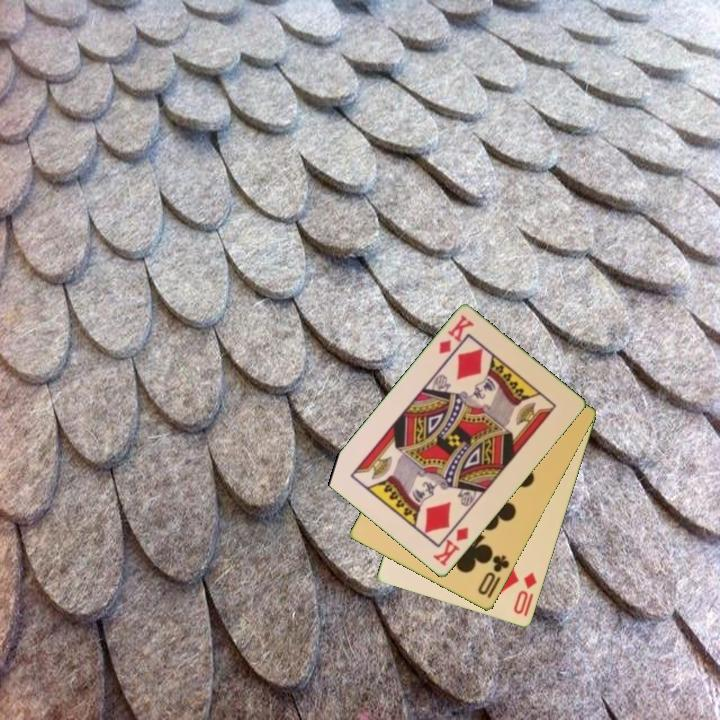10c: (474, 552, 513, 598)
10d: (510, 569, 540, 619)
Kd: (429, 523, 472, 569), (435, 312, 477, 357)
